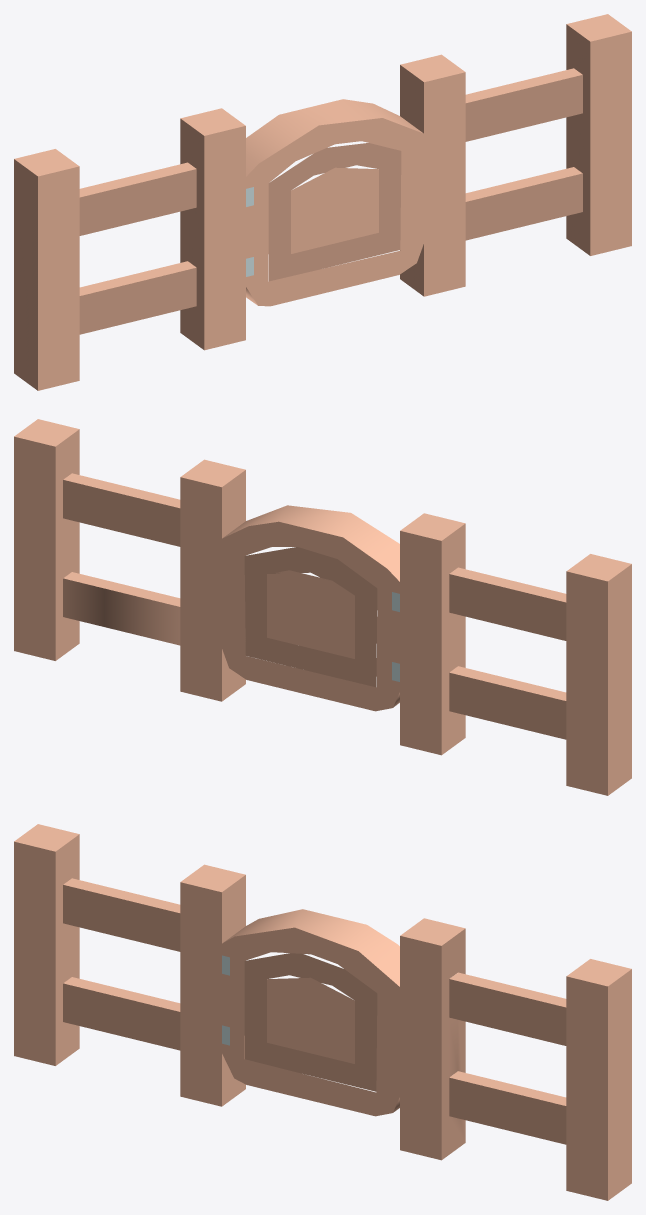
File: fence_gate.glb
3 renders of one model, top to bottom at view 1: azimuth 30°, elevation 25°; view 2: azimuth 150°, elevation 25°; view 3: azimuth 330°, elevation 25°, orthographic.
Visible parts, largest first — view 1: gate; view 2: gate; view 3: gate.
Boxes of the visible parts, x1,y1,x2,y2 form: gate: [14, 14, 631, 390]; gate: [14, 419, 631, 795]; gate: [14, 824, 631, 1200].
Size of the model in its own units: 1 by 0.345 by 0.07.
